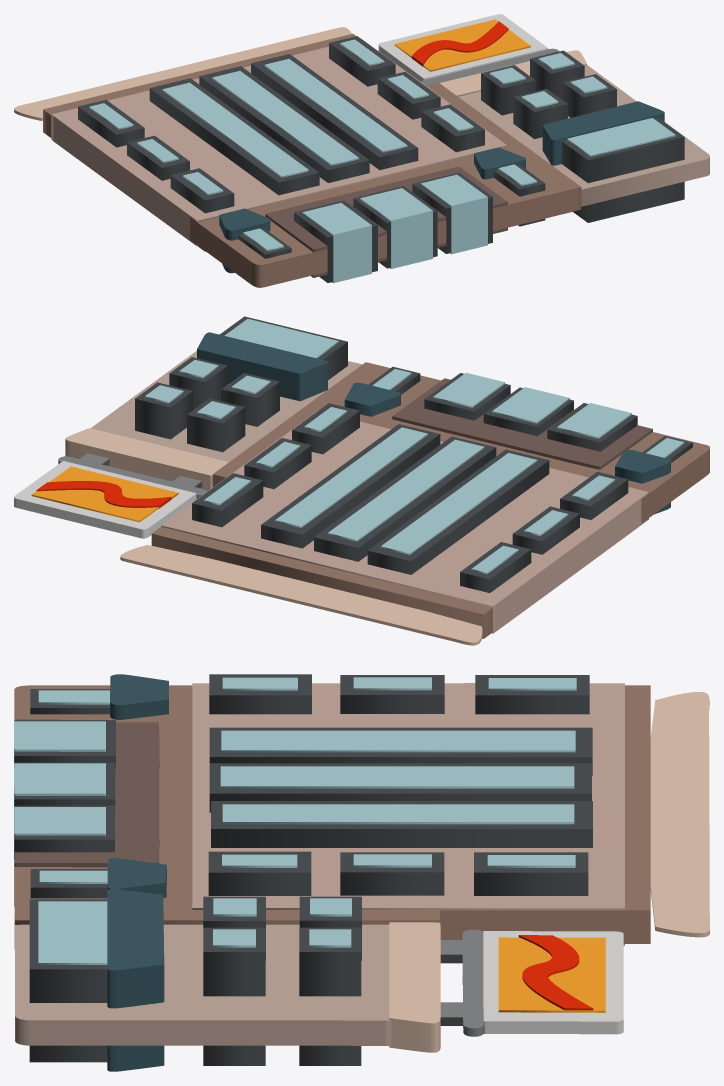
Rendered from emoji_u1f3ec.glb.
The picture shows the model from 3 angles, top to bottom: view 1: azimuth 30°, elevation 25°; view 2: azimuth 150°, elevation 25°; view 3: azimuth 270°, elevation 25°; orthographic projection. The views are drawn at different scales.
Parts seen in each view (by area): view 1: emoji_u1f3ec; view 2: emoji_u1f3ec; view 3: emoji_u1f3ec.
Part boxes in pixels (<box>): emoji_u1f3ec: <box>14,14,709,287</box>; emoji_u1f3ec: <box>14,316,709,645</box>; emoji_u1f3ec: <box>14,674,709,1071</box>.
Bounding box in the file's own units: 0.035 × 0.0056 × 0.0299.
